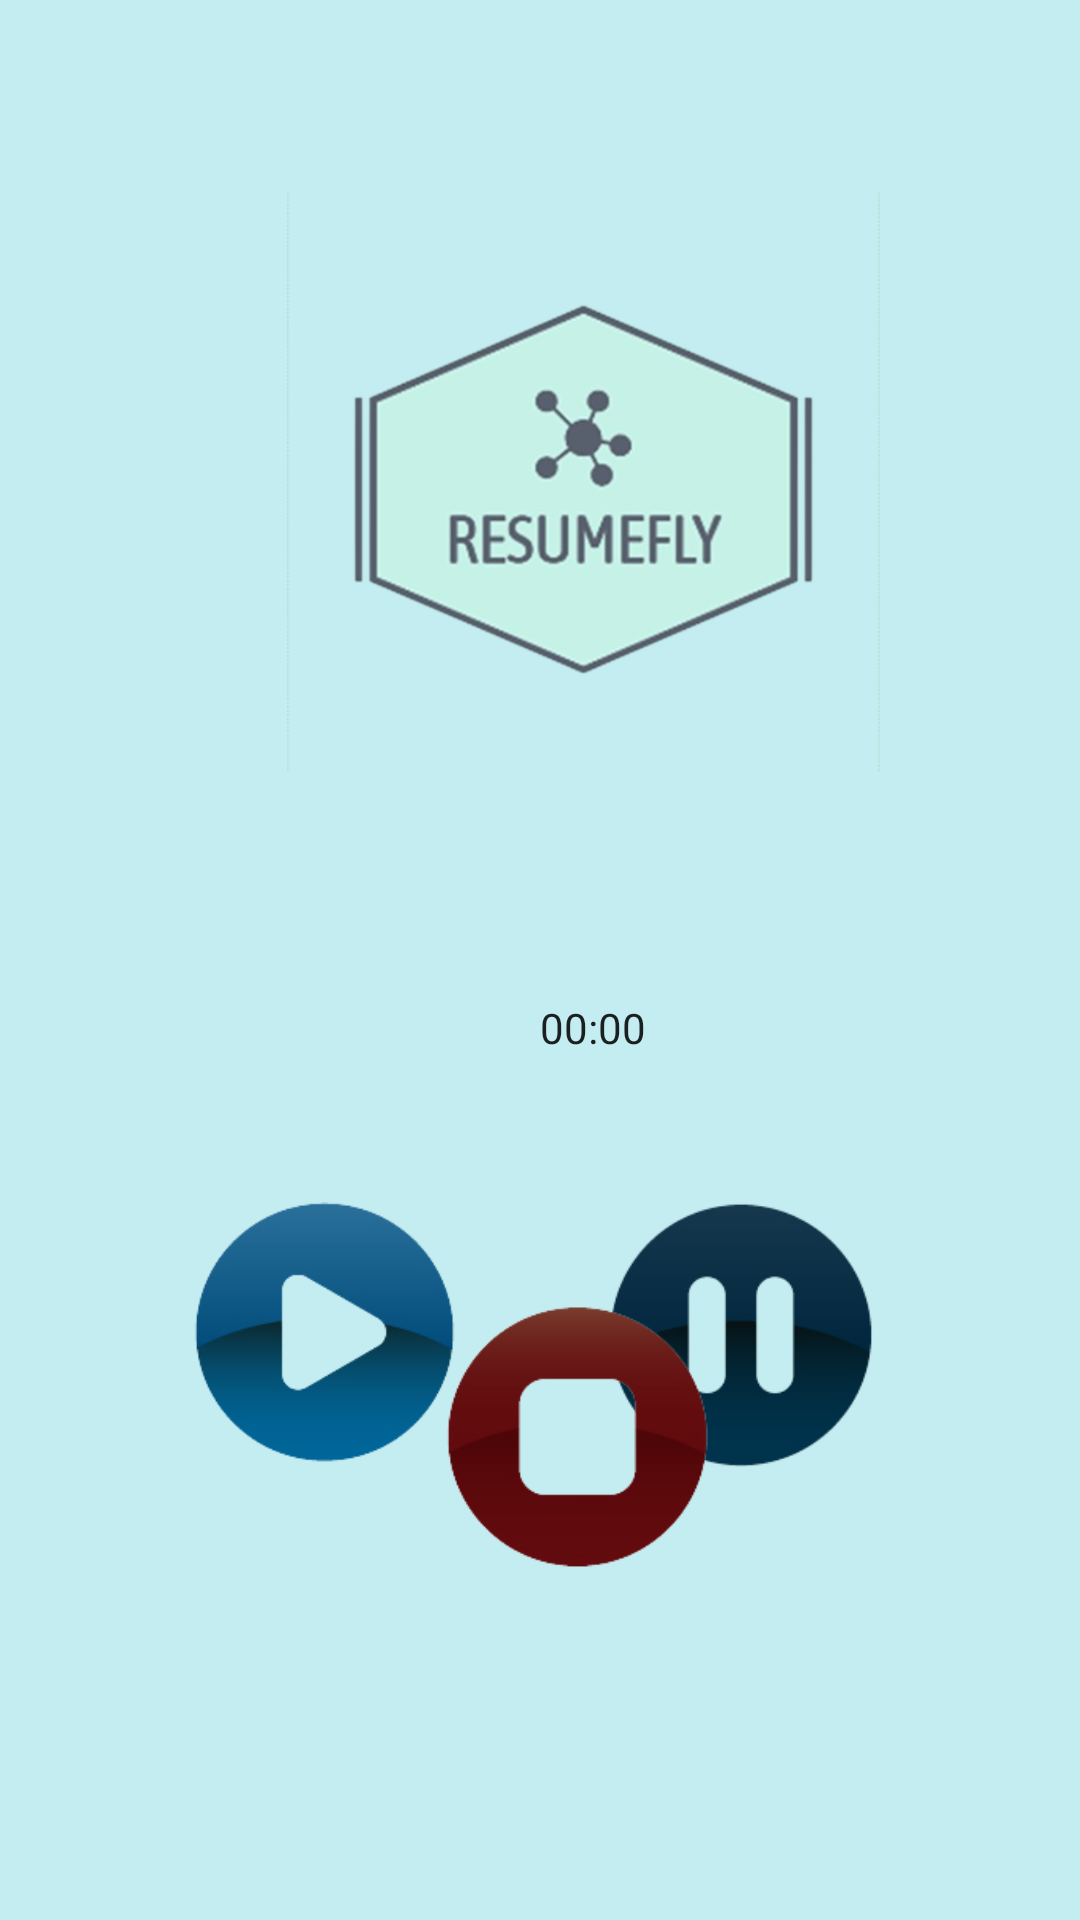

Icon bounding boxes for this 1080x1920 phone screenshot, format bbox(x1, y1, x2, y2):
Comienzo de grabacion: bbox(195, 1202, 454, 1462)
